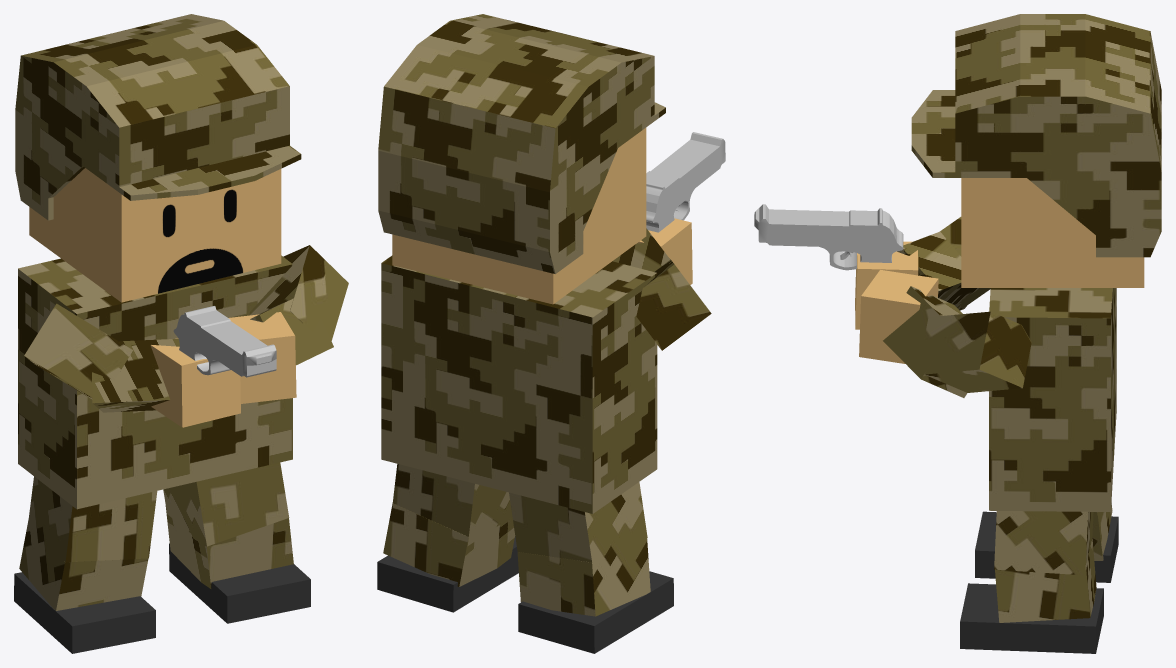
Rendered from Soldier_Wang.FBX.
3 views of the same model, side by side, from view 1: azimuth 30°, elevation 25°; view 2: azimuth 150°, elevation 25°; view 3: azimuth 270°, elevation 25° (orthographic).
Parts seen in each view (by area): view 1: Box019, Box001, Box018, Box003, Box014, Box004, Box002, Box008, Box015, Box016, Box010, Bereta (+4 smaller); view 2: Box001, Box019, Box018, Box003, Box002, Box016, Box014, Box004, Bereta, Box015, Box008, Box010 (+1 smaller); view 3: Box019, Box001, Box018, Box013, Bereta, Box015, Box014, Box016, Box012, Box011, Box009, Box004 (+3 smaller).
Boxes of the visible parts, x1,y1,x2,y2 form: Box019: (15, 14, 301, 220); Box001: (18, 255, 292, 509); Box018: (29, 168, 281, 302); Box003: (27, 476, 157, 562); Box014: (163, 462, 289, 546); Box004: (14, 572, 155, 653); Box002: (19, 521, 148, 610); Box008: (24, 303, 132, 399); Box015: (169, 543, 310, 623); Box016: (165, 506, 293, 588); Box010: (150, 338, 240, 427); Bereta: (173, 306, 276, 377); Box001: (381, 255, 657, 513); Box019: (378, 14, 665, 273); Box018: (392, 128, 646, 304); Box003: (509, 482, 647, 572); Box002: (517, 538, 650, 616); Box016: (383, 503, 515, 586); Box014: (392, 464, 512, 545); Box004: (518, 571, 673, 653); Bereta: (646, 132, 725, 232); Box015: (377, 536, 518, 612); Box008: (636, 259, 711, 350); Box010: (637, 218, 692, 284); Box019: (911, 14, 1161, 257); Box001: (989, 288, 1116, 511); Box018: (961, 178, 1144, 287); Box013: (922, 311, 1031, 392); Bereta: (754, 204, 903, 270); Box015: (960, 583, 1103, 653); Box014: (994, 511, 1093, 575); Box016: (995, 539, 1096, 622); Box012: (859, 270, 938, 363); Box011: (883, 286, 967, 397); Box009: (897, 231, 980, 310); Box004: (975, 511, 1118, 582).
Size of the model in its own units: 119 by 196 by 133.
